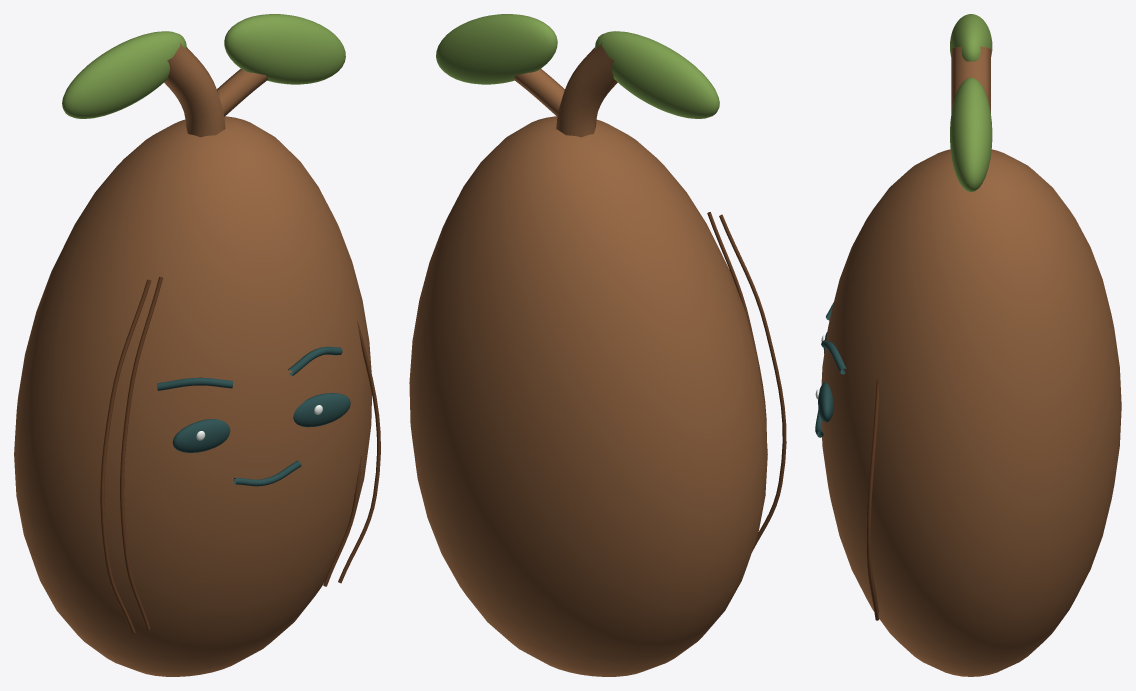
File: wood-expression-v1.glb
The picture shows the model from 3 angles, left to right: view 1: azimuth 30°, elevation 25°; view 2: azimuth 150°, elevation 25°; view 3: azimuth 270°, elevation 25°; orthographic projection. The views are drawn at different scales.
Parts seen in each view (by area): view 1: Wood | tapered seed heart, Wood | right leaf, Wood | left leaf, Wood | growing crown, Wood | restrained side grain.001, Wood | restrained side grain, wood | quiet eye, wood | quiet eye.001, Wood | side shoot, Wood | restrained side grain.003, wood | gentle brow, Wood | restrained side grain.002; view 2: Wood | tapered seed heart, Wood | right leaf, Wood | left leaf, Wood | growing crown, Wood | restrained side grain.001, Wood | side shoot, Wood | restrained side grain; view 3: Wood | tapered seed heart, Wood | right leaf, Wood | left leaf, Wood | growing crown, Wood | restrained side grain.003, wood | quiet eye.001.
Part boxes in pixels (left/top/right/bottom): Wood | tapered seed heart: left=14, top=116, right=371, bottom=676; Wood | right leaf: left=224, top=14, right=345, bottom=84; Wood | left leaf: left=62, top=31, right=186, bottom=118; Wood | growing crown: left=164, top=42, right=225, bottom=137; Wood | restrained side grain.001: left=100, top=279, right=150, bottom=633; Wood | restrained side grain: left=120, top=276, right=162, bottom=630; wood | quiet eye: left=172, top=419, right=230, bottom=452; wood | quiet eye.001: left=293, top=393, right=350, bottom=427; Wood | side shoot: left=217, top=69, right=268, bottom=116; Wood | restrained side grain.003: left=338, top=321, right=380, bottom=583; wood | gentle brow: left=157, top=377, right=233, bottom=390; Wood | restrained side grain.002: left=323, top=456, right=361, bottom=586; Wood | tapered seed heart: left=409, top=116, right=767, bottom=676; Wood | right leaf: left=436, top=14, right=557, bottom=84; Wood | left leaf: left=595, top=31, right=719, bottom=118; Wood | growing crown: left=556, top=43, right=617, bottom=137; Wood | restrained side grain.001: left=719, top=214, right=786, bottom=551; Wood | side shoot: left=513, top=69, right=564, bottom=116; Wood | restrained side grain: left=707, top=212, right=766, bottom=437; Wood | tapered seed heart: left=821, top=149, right=1121, bottom=676; Wood | right leaf: left=950, top=77, right=992, bottom=192; Wood | left leaf: left=950, top=14, right=992, bottom=61; Wood | growing crown: left=951, top=46, right=990, bottom=112; Wood | restrained side grain.003: left=866, top=379, right=879, bottom=620; wood | quiet eye.001: left=818, top=382, right=833, bottom=422.
Size of the model in its own units: 1.27 by 2.41 by 1.08.
